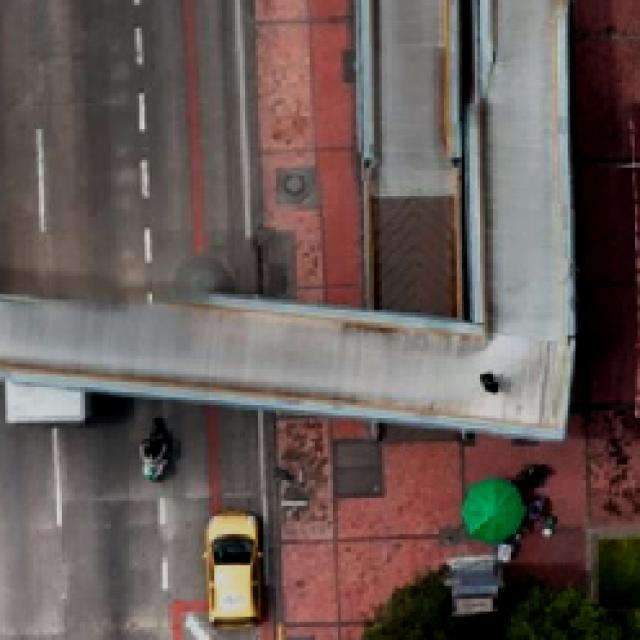vendedor_ambulante: (452, 475, 536, 551)
